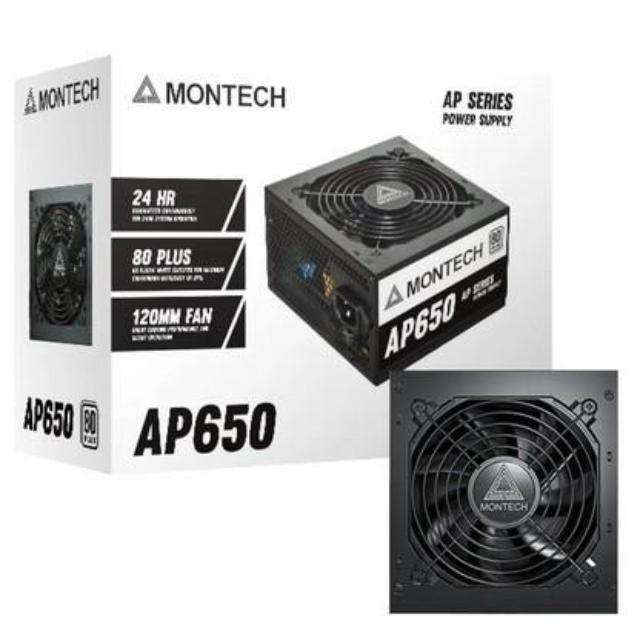PSU: (258, 124, 522, 386), (377, 357, 634, 623)
